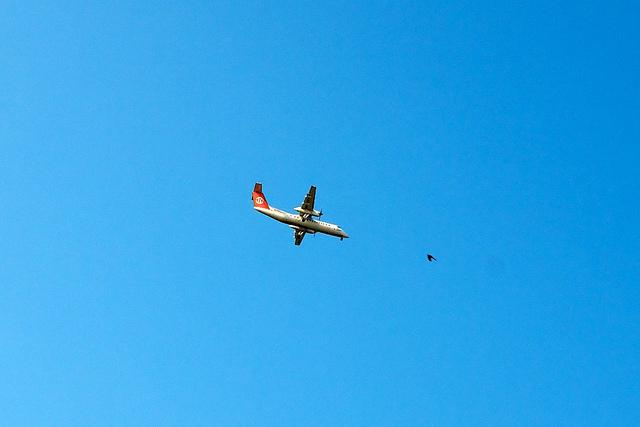airplane: (250, 181, 352, 248)
